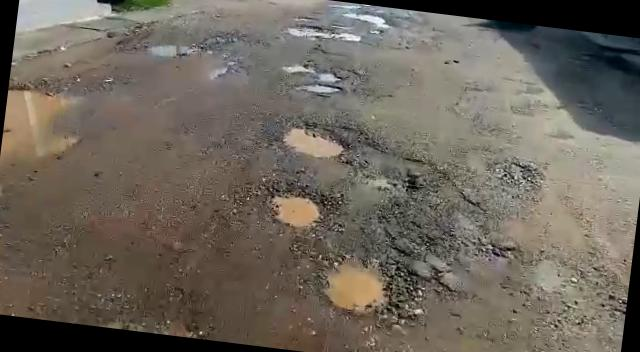pothole: (314, 252, 411, 320), (275, 118, 356, 162), (267, 186, 332, 233), (281, 20, 355, 44), (278, 60, 346, 85), (145, 39, 193, 58), (296, 78, 344, 96)
